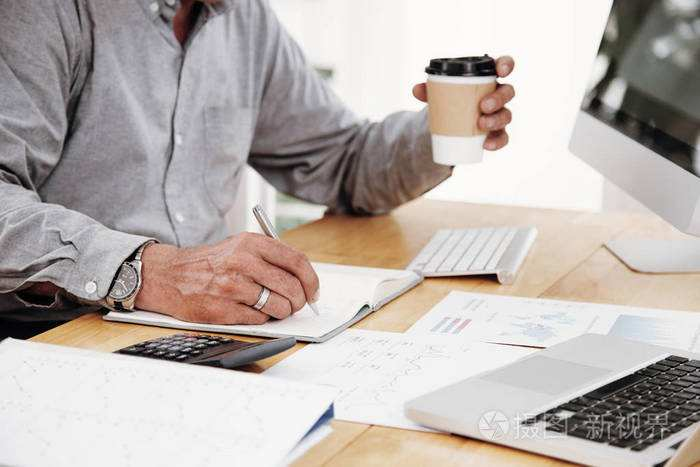no-phone: (142, 202, 327, 324), (411, 41, 520, 168)
